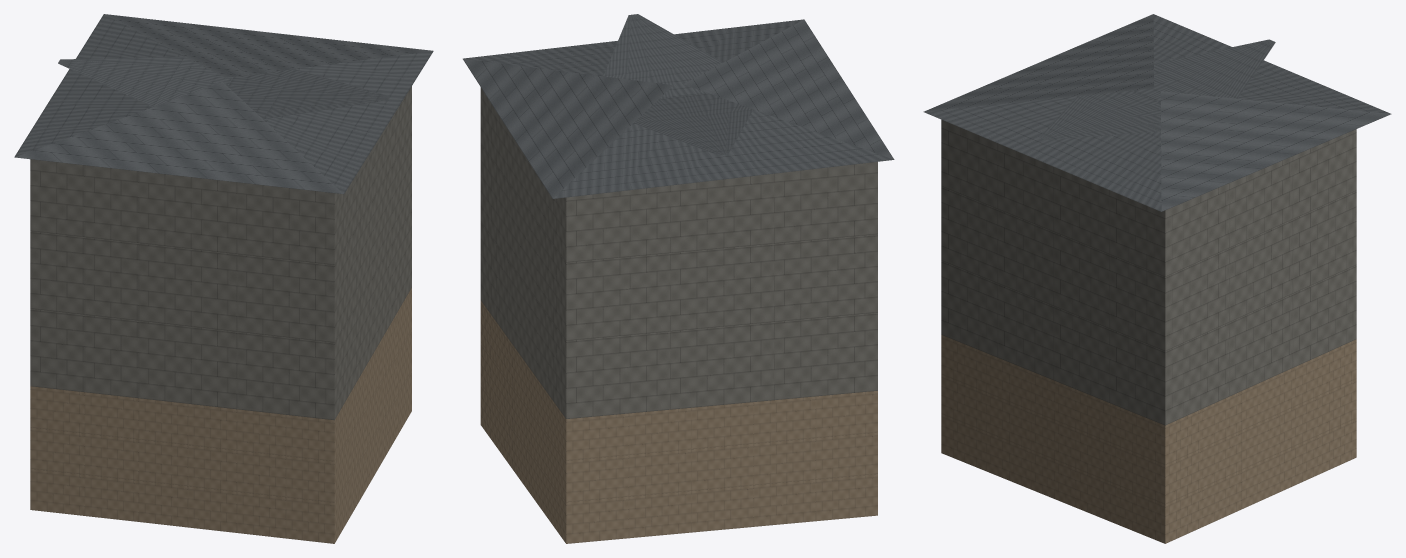
Rendered from bld_c40_34_290.gltf.
3 renders of one model, left to right at view 1: azimuth 30°, elevation 25°; view 2: azimuth 150°, elevation 25°; view 3: azimuth 270°, elevation 25°, orthographic. The views are drawn at different scales.
Visible parts, largest first — view 1: bld_c40_34_290; view 2: bld_c40_34_290; view 3: bld_c40_34_290.
Part boxes in pixels (bbox=[...]): bld_c40_34_290: bbox=[14, 14, 433, 543]; bld_c40_34_290: bbox=[463, 14, 894, 543]; bld_c40_34_290: bbox=[923, 14, 1391, 543].
Size of the model in its own units: 18.29 by 15.7 by 18.29.
Materials: 3 (3 with a texture image).
